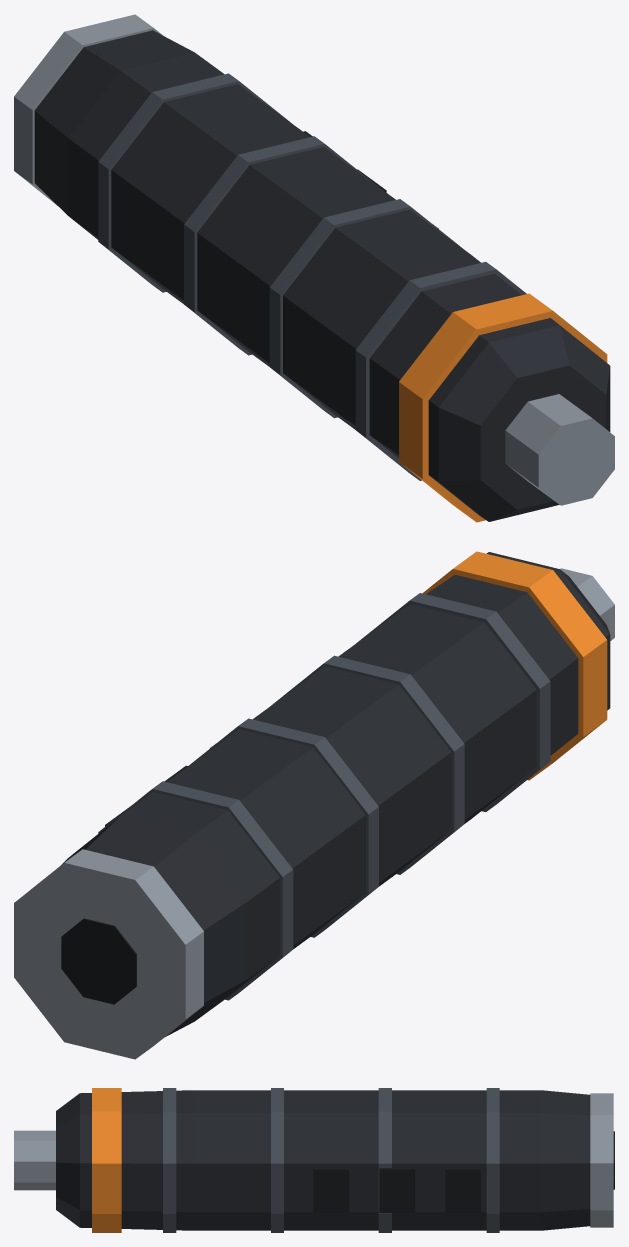
File: att_suppressor.glb
The picture shows the model from 3 angles, top to bottom: view 1: azimuth 30°, elevation 25°; view 2: azimuth 150°, elevation 25°; view 3: azimuth 270°, elevation 25°; orthographic projection. The views are drawn at different scales.
Visible parts, largest first — view 1: Body; view 2: Body; view 3: Body.
Part boxes in pixels (bbox=[...]): Body: bbox=[14, 14, 614, 522]; Body: bbox=[14, 551, 614, 1059]; Body: bbox=[14, 1088, 614, 1232].
Size of the model in its own units: 0.0467 by 0.0447 by 0.2007.
